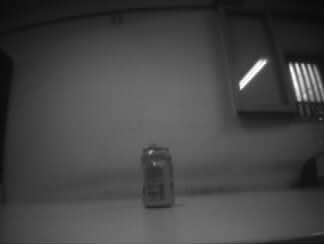Tin can: (140, 143, 176, 209)
